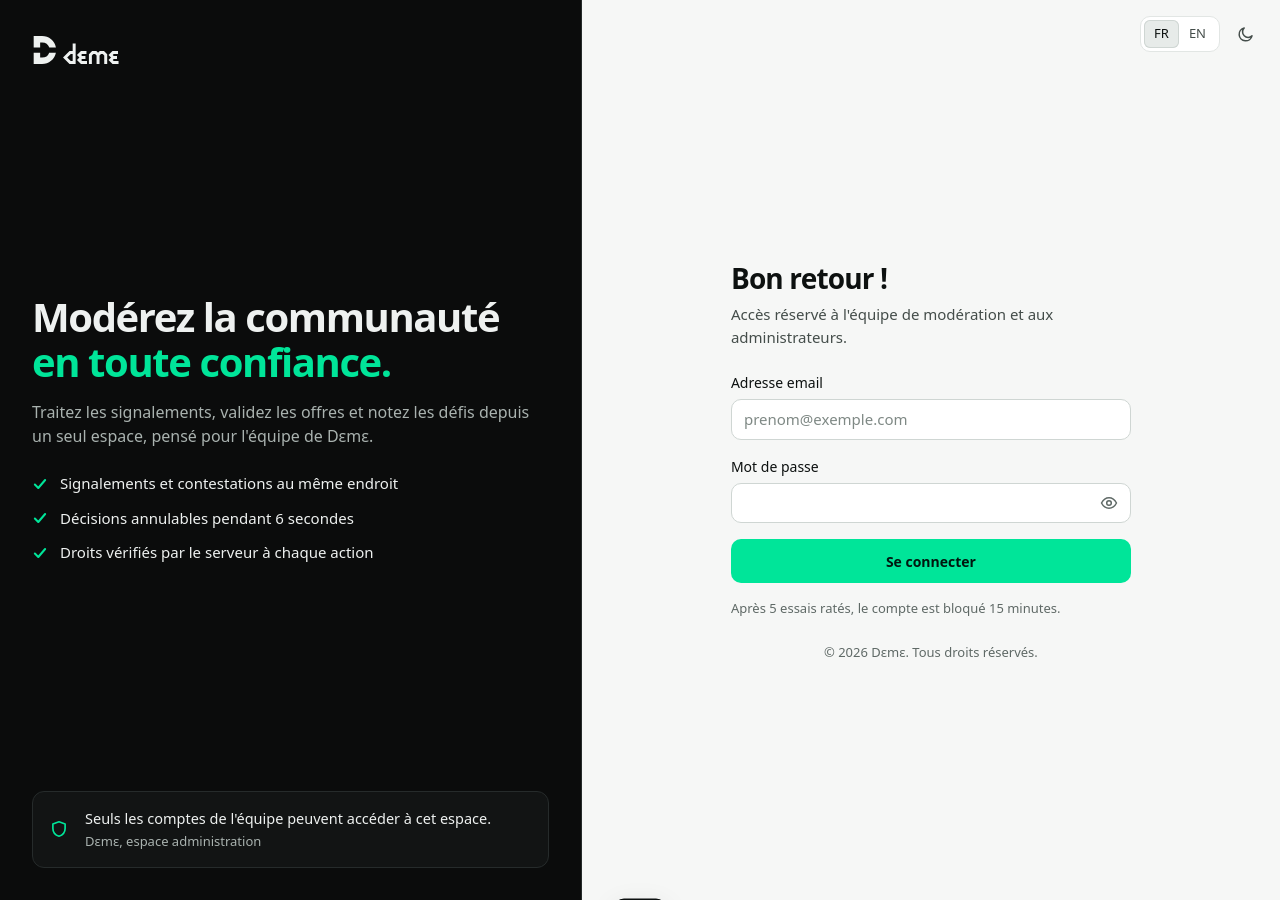
Test: un simple membre n'a pas accès à l'administration
In the field labelled "Adresse email": (931, 420) top-left (731, 399), bottom-right (1131, 440), type "equipe@deme.dev"
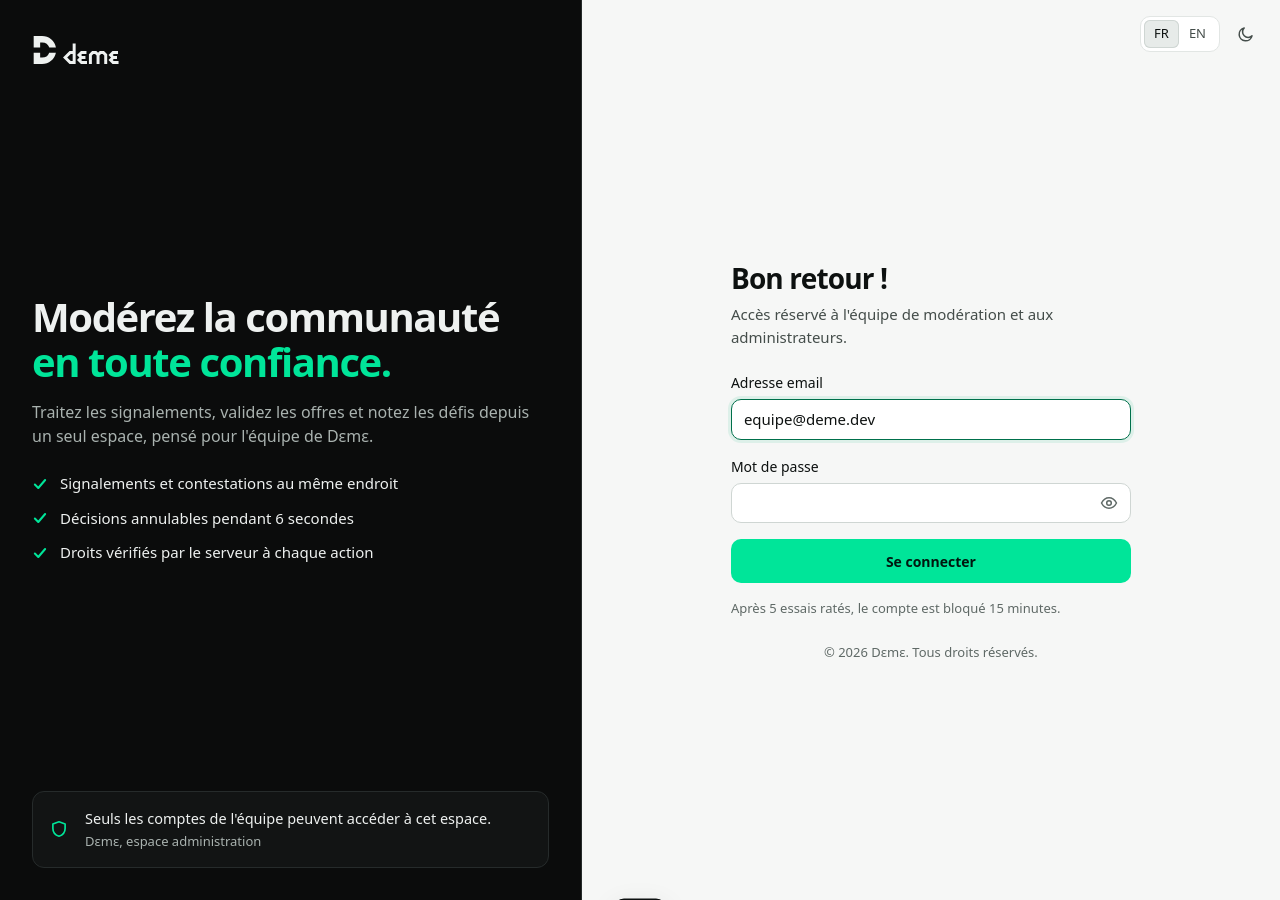
In the password field labelled "Mot de passe": (931, 503) top-left (731, 483), bottom-right (1131, 523), type "un-mot-de-passe"
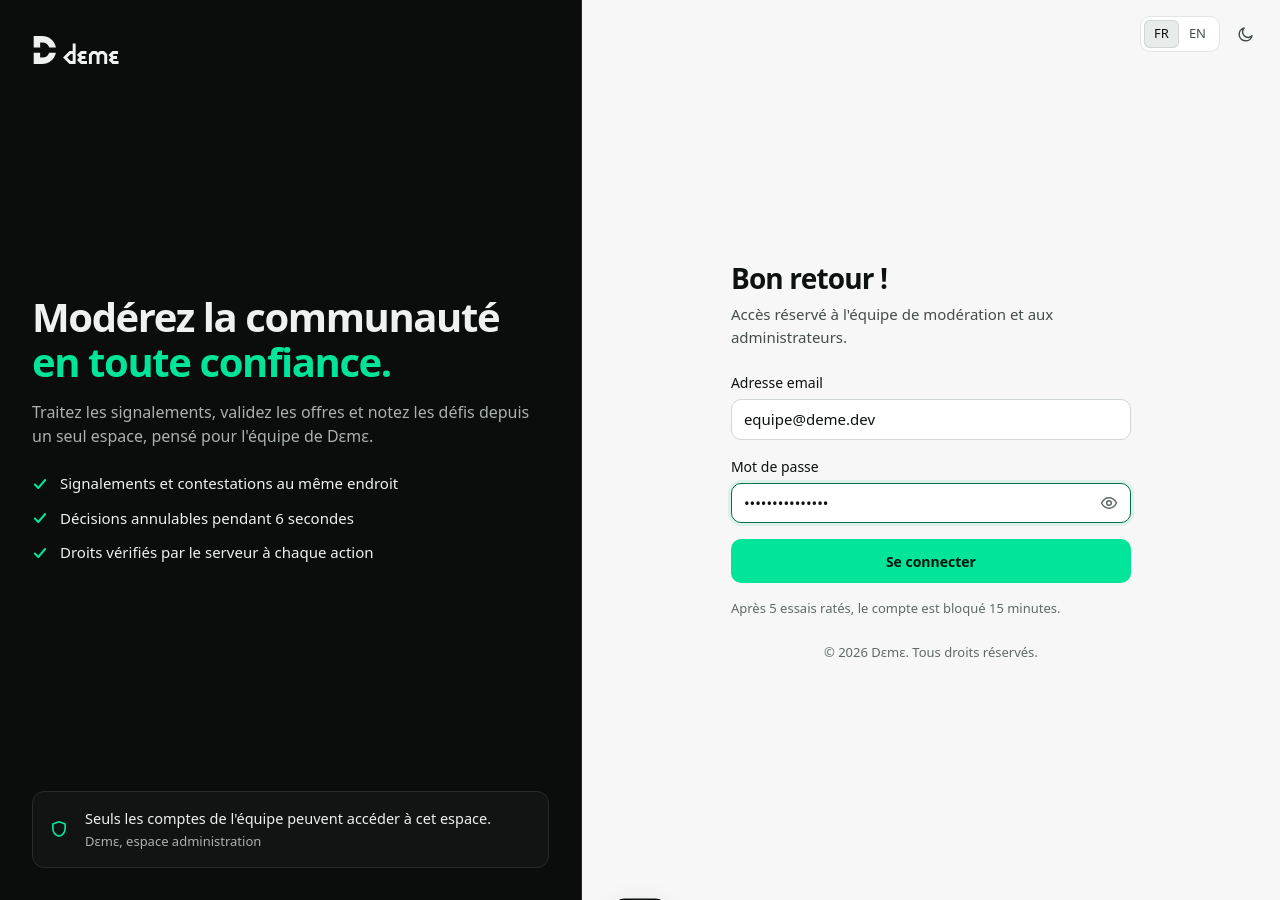
Click the button "Se connecter": (931, 561) top-left (731, 539), bottom-right (1131, 583)
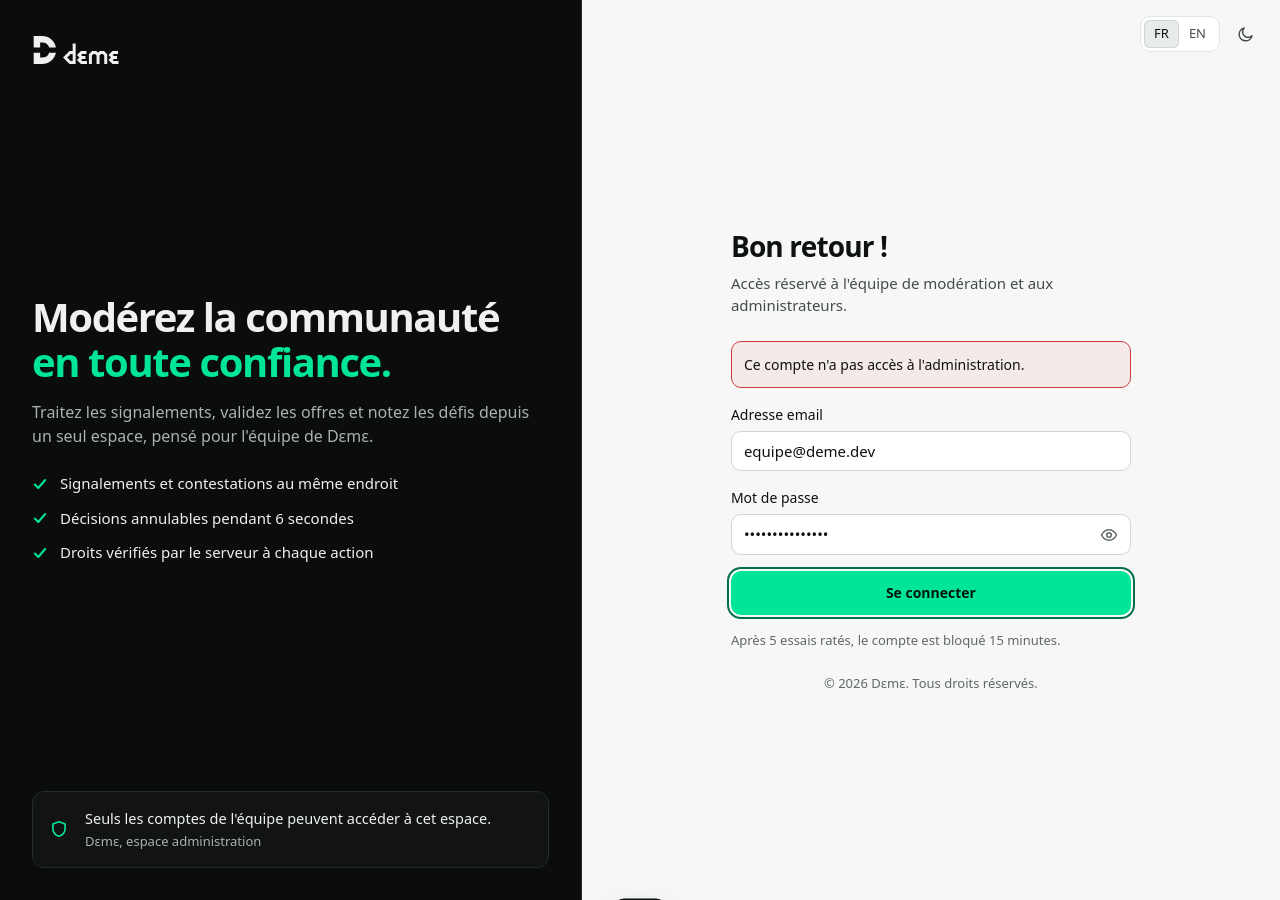
Result: the message "Ce compte n'a pas accès à l'administration." is shown at top-left (731, 341), bottom-right (1131, 388)
